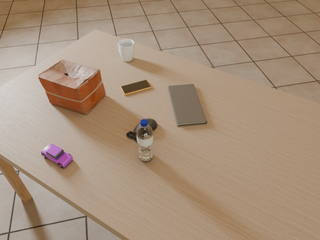book: (168, 84, 207, 126)
bottle: (136, 119, 153, 161)
box: (38, 60, 106, 115)
cup: (117, 39, 135, 62)
mouse: (127, 119, 157, 142)
phone: (120, 80, 151, 95)
toy_car: (41, 144, 73, 168)
